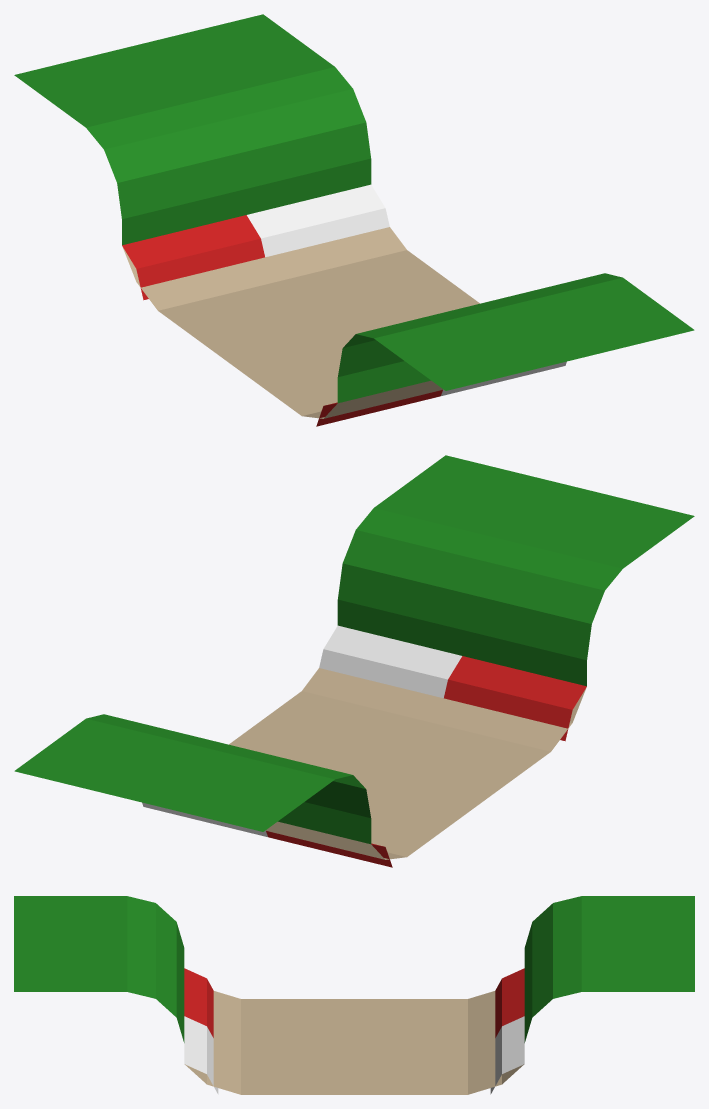
File: Track_Striped_Straight_Single.obj
3 views of the same model, one above another, from view 1: azimuth 30°, elevation 25°; view 2: azimuth 150°, elevation 25°; view 3: azimuth 270°, elevation 25° (orthographic). The views are drawn at different scales.
Visible parts, largest first — view 1: Grass, Dirt, Raceline_Color_2, Raceline_Color_1; view 2: Grass, Dirt, Raceline_Color_2, Raceline_Color_1; view 3: Grass, Dirt, Raceline_Color_1, Raceline_Color_2.
Boxes of the visible parts, x1=… form: Grass: x1=14, y1=14, x2=694, y2=403; Dirt: x1=122, y1=227, x2=479, y2=418; Raceline_Color_2: x1=122, y1=215, x2=442, y2=426; Raceline_Color_1: x1=247, y1=184, x2=566, y2=395; Grass: x1=14, y1=455, x2=694, y2=844; Dirt: x1=229, y1=668, x2=586, y2=859; Raceline_Color_2: x1=266, y1=656, x2=586, y2=867; Raceline_Color_1: x1=142, y1=625, x2=461, y2=836; Grass: x1=14, y1=896, x2=694, y2=1042; Dirt: x1=184, y1=991, x2=524, y2=1094; Raceline_Color_1: x1=184, y1=1016, x2=524, y2=1094; Raceline_Color_2: x1=184, y1=968, x2=524, y2=1037.
Size of the model in its own units: 1 by 0.5 by 3.
